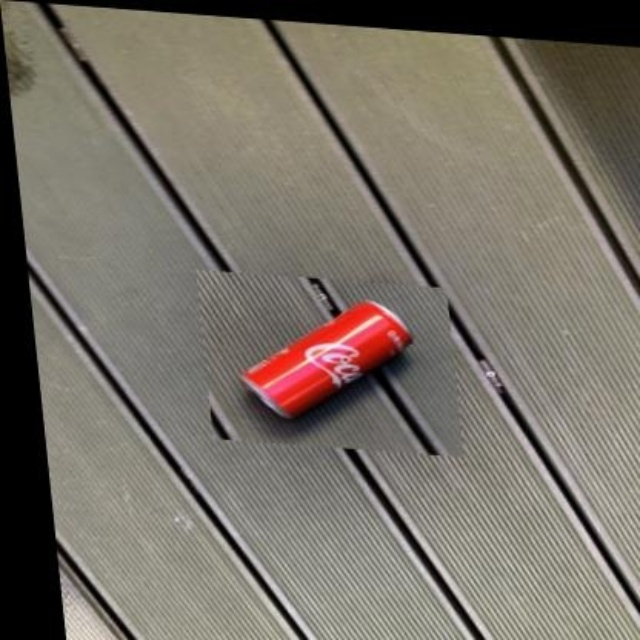trash: (243, 302, 411, 417)
